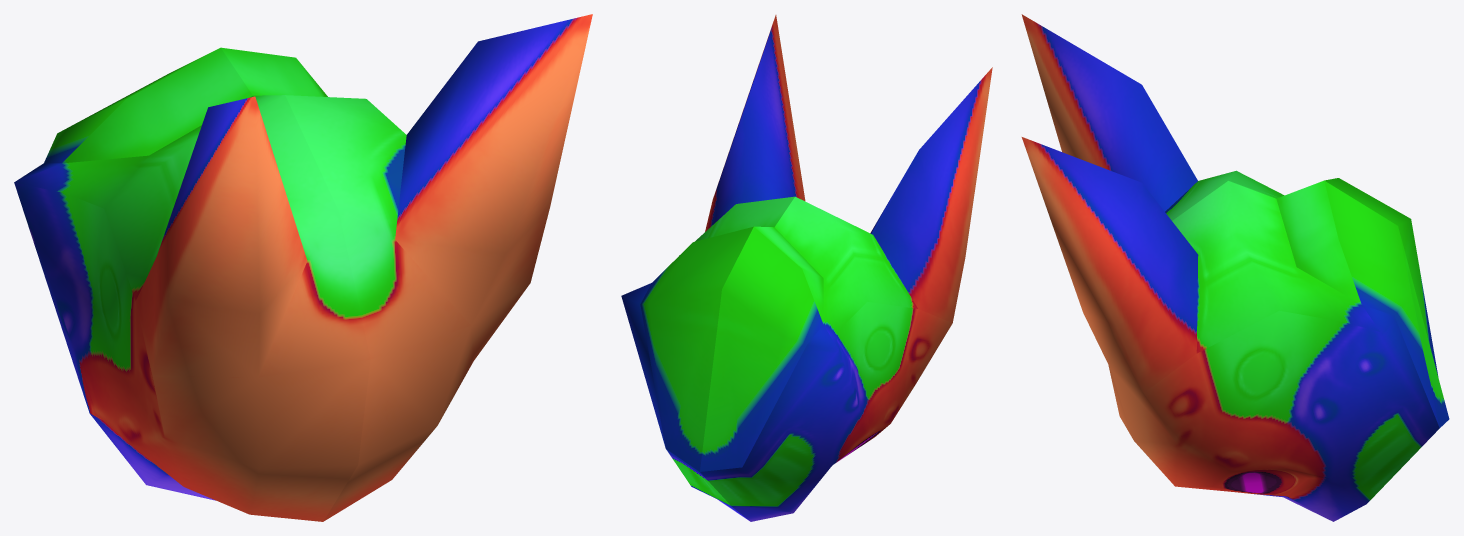
The picture shows the model from 3 angles, left to right: view 1: azimuth 30°, elevation 25°; view 2: azimuth 150°, elevation 25°; view 3: azimuth 270°, elevation 25°; orthographic projection. The views are drawn at different scales.
Parts seen in each view (by area): view 1: grem.model-Mesh[0]; view 2: grem.model-Mesh[0]; view 3: grem.model-Mesh[0].
Boxes of the visible parts, left/top/right/bottom form: grem.model-Mesh[0]: left=14, top=14, right=592, bottom=521; grem.model-Mesh[0]: left=621, top=15, right=992, bottom=521; grem.model-Mesh[0]: left=1021, top=14, right=1449, bottom=521.
Bounding box in the file's own units: 0.4989 × 0.7481 × 0.652.
2 materials, 2 textured.
